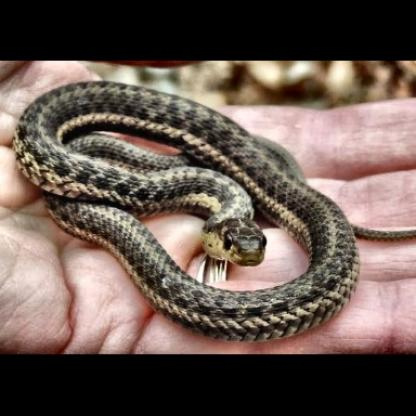Snake: (13, 68, 398, 348), (176, 125, 273, 265)
